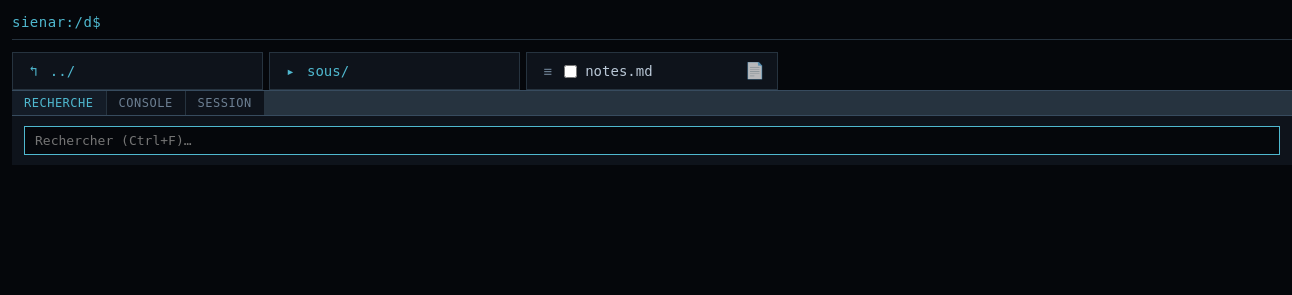
Scenario: FileExplorer.vue - Point 7: Recherche (dock) › rappelle le périmètre de recherche courant dans le dock
Type "rap" into the field with class "search-input".
click(652, 140); type("rap")  # box [24,126,1280,155]
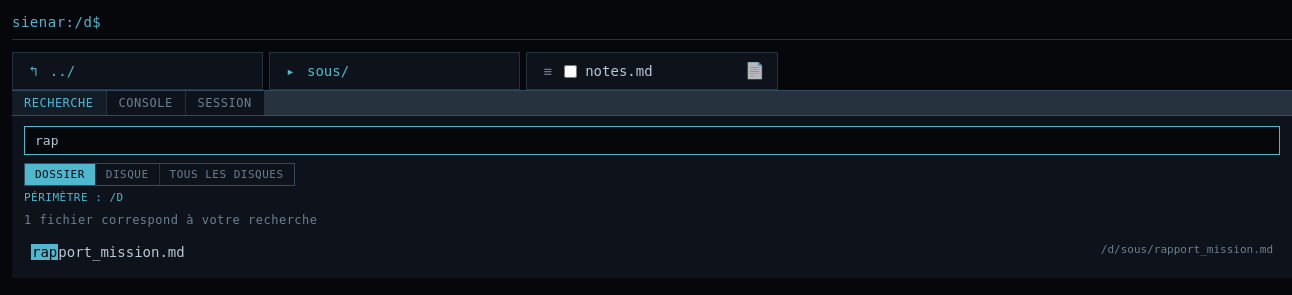
expect the text with class "search-scope" shows "/d": met, box [24,191,124,204]
